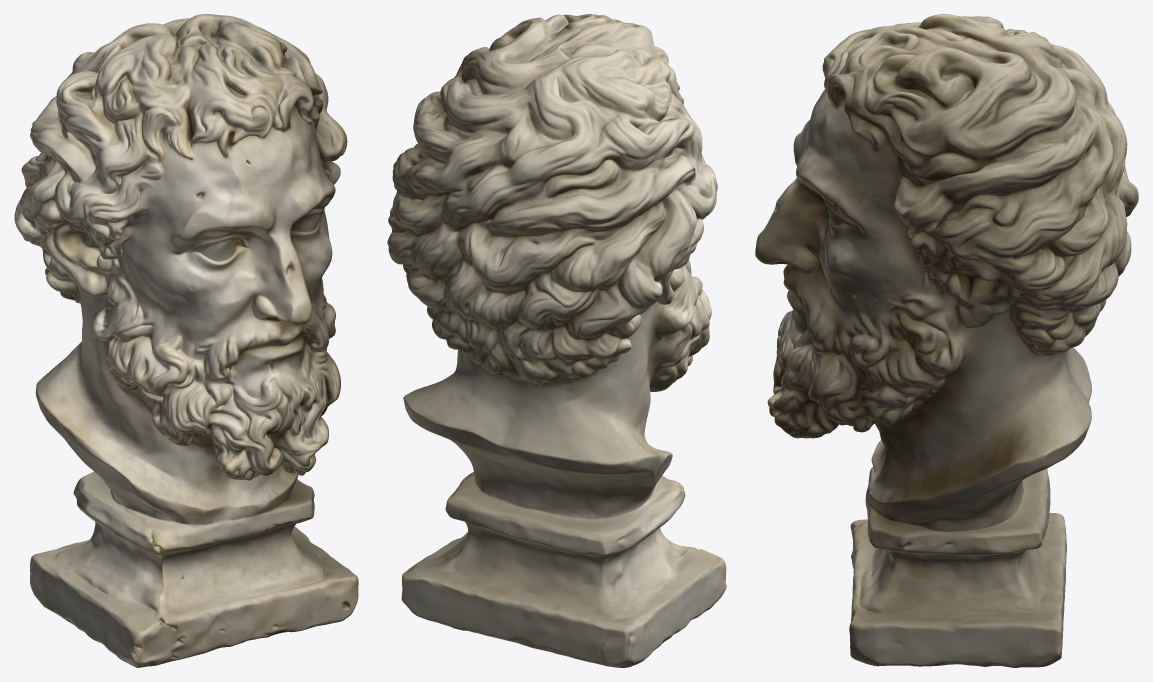
File: classical+bust+3d+model.glb
3 renders of one model, left to right at view 1: azimuth 30°, elevation 25°; view 2: azimuth 150°, elevation 25°; view 3: azimuth 270°, elevation 25°, orthographic. The views are drawn at different scales.
Visible parts, largest first — view 1: tripo_node_cea2d0bd-b2ef-4e14-b754-fe1a79c8215b; view 2: tripo_node_cea2d0bd-b2ef-4e14-b754-fe1a79c8215b; view 3: tripo_node_cea2d0bd-b2ef-4e14-b754-fe1a79c8215b.
Boxes of the visible parts, x1=… form: tripo_node_cea2d0bd-b2ef-4e14-b754-fe1a79c8215b: x1=14, y1=14, x2=358, y2=667; tripo_node_cea2d0bd-b2ef-4e14-b754-fe1a79c8215b: x1=387, y1=14, x2=726, y2=667; tripo_node_cea2d0bd-b2ef-4e14-b754-fe1a79c8215b: x1=755, y1=14, x2=1138, y2=667.
Size of the model in its own units: 0.5342 by 1 by 0.5957.
1 material, 1 textured.
